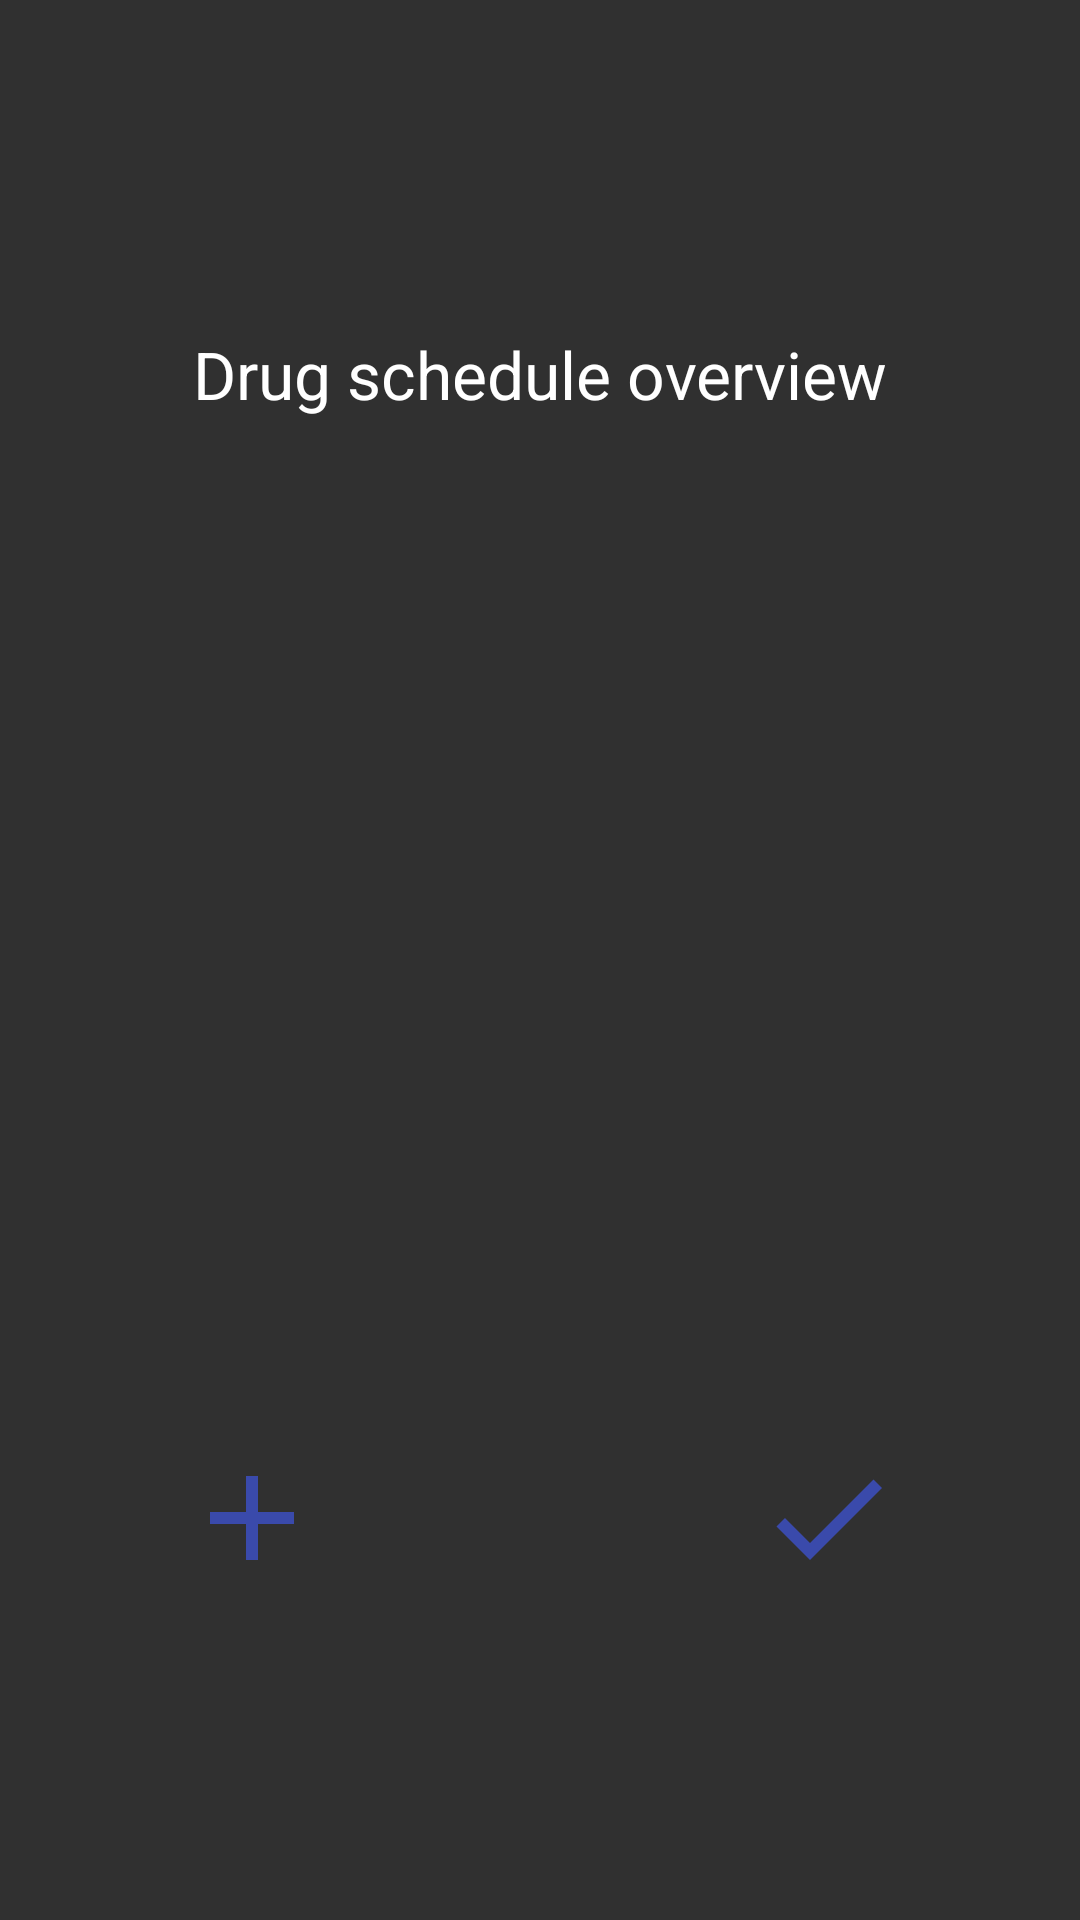

Where to tap for icons on this 1080 × 1920 app screen, as point (x, y):
Add new alarm schedule: point (252, 1518)
Save drug: point (829, 1519)
